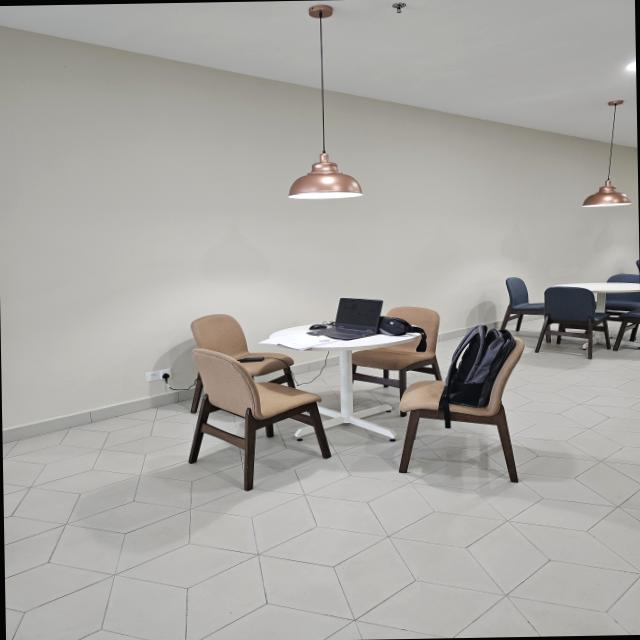footpath: (5, 475, 640, 640)
obstacle: (155, 293, 536, 477)
